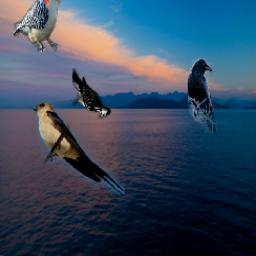Crow: (187, 58, 217, 133)
Swallow: (33, 102, 124, 196)
Woodpecker: (13, 0, 68, 53), (72, 69, 112, 121)
